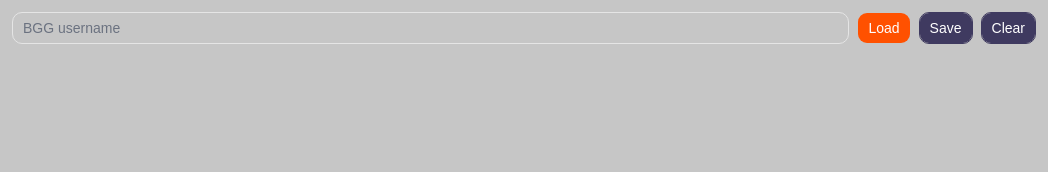
Scenario: UsernameForm › Save button › Given an empty input, When the user clicks Save, Then a validation message is shown and localStorage is not written
Click the button "Save": [946, 28] box [919, 12, 972, 44]
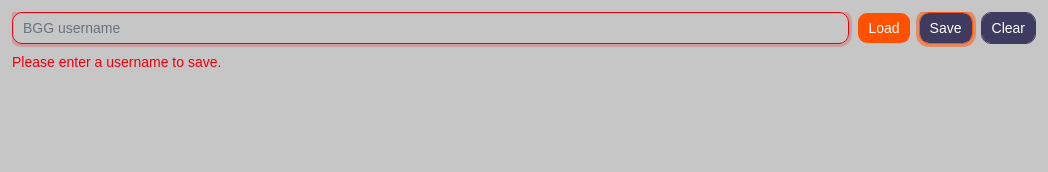
expect the message "Please enter a username to save." is shown: met, box [12, 54, 221, 70]
